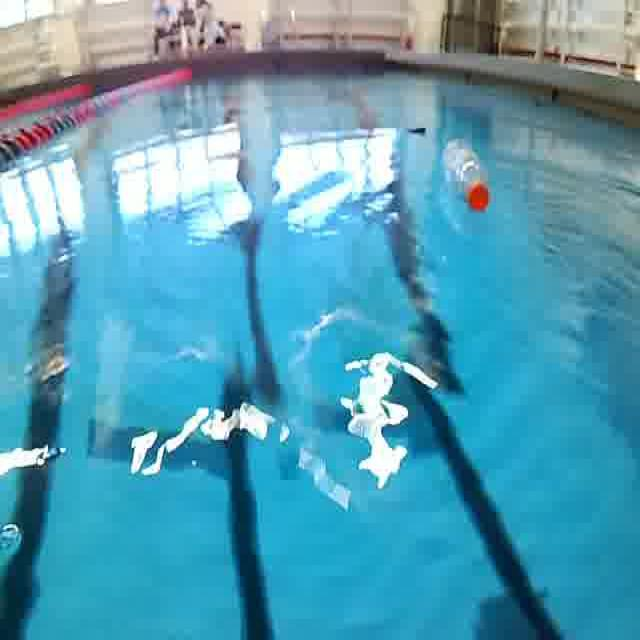Bottle: (440, 137, 492, 218)
